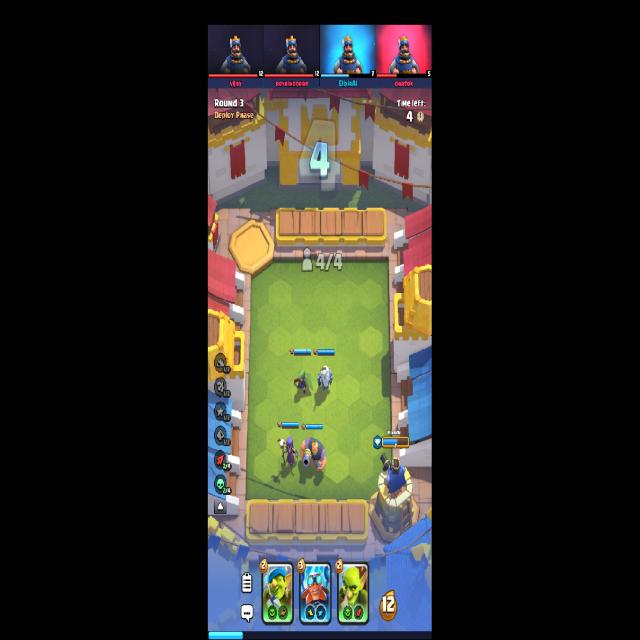bandit: (293, 370, 313, 396)
card_electro_giant: (298, 561, 332, 626)
card_goblin: (338, 562, 369, 625)
card_spear_goblin: (262, 560, 294, 624)
royal_ghost: (318, 366, 333, 390)
royal_giant: (300, 438, 326, 471)
witch: (278, 437, 300, 468)
